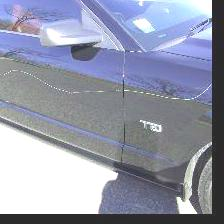door_scratch: (0, 71, 208, 103)
